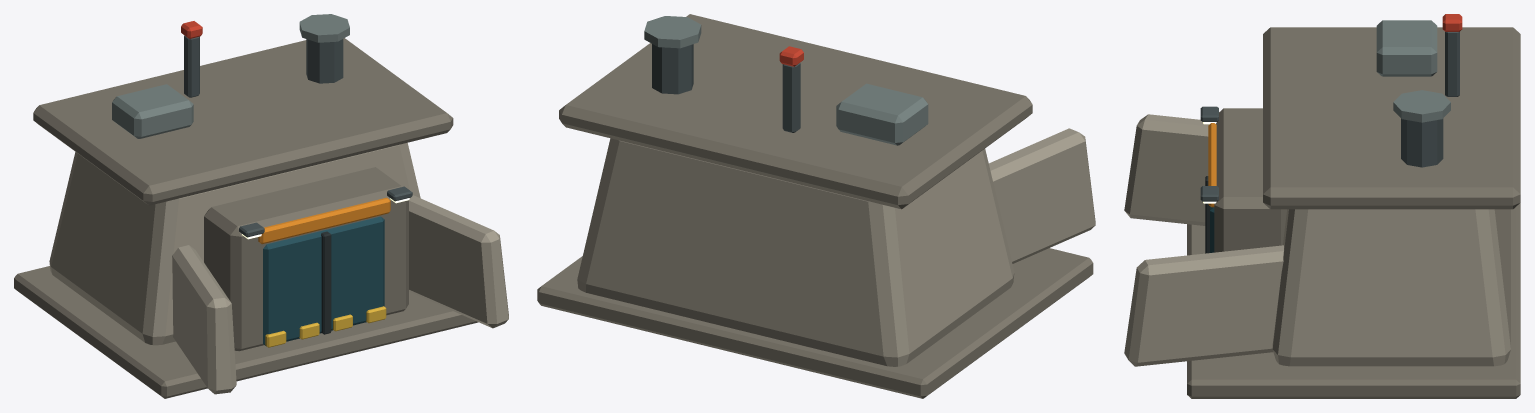
File: wb_bunker_entrance.glb
The picture shows the model from 3 angles, left to right: view 1: azimuth 30°, elevation 25°; view 2: azimuth 150°, elevation 25°; view 3: azimuth 270°, elevation 25°; orthographic projection. The views are drawn at different scales.
Visible parts, largest first — view 1: wb_bunker_entrance; view 2: wb_bunker_entrance; view 3: wb_bunker_entrance.
Boxes of the visible parts, bbox=[...] form: wb_bunker_entrance: bbox=[14, 14, 508, 398]; wb_bunker_entrance: bbox=[537, 14, 1095, 398]; wb_bunker_entrance: bbox=[1124, 14, 1520, 398].
Size of the model in its own units: 2.9 by 2.03 by 2.61.
